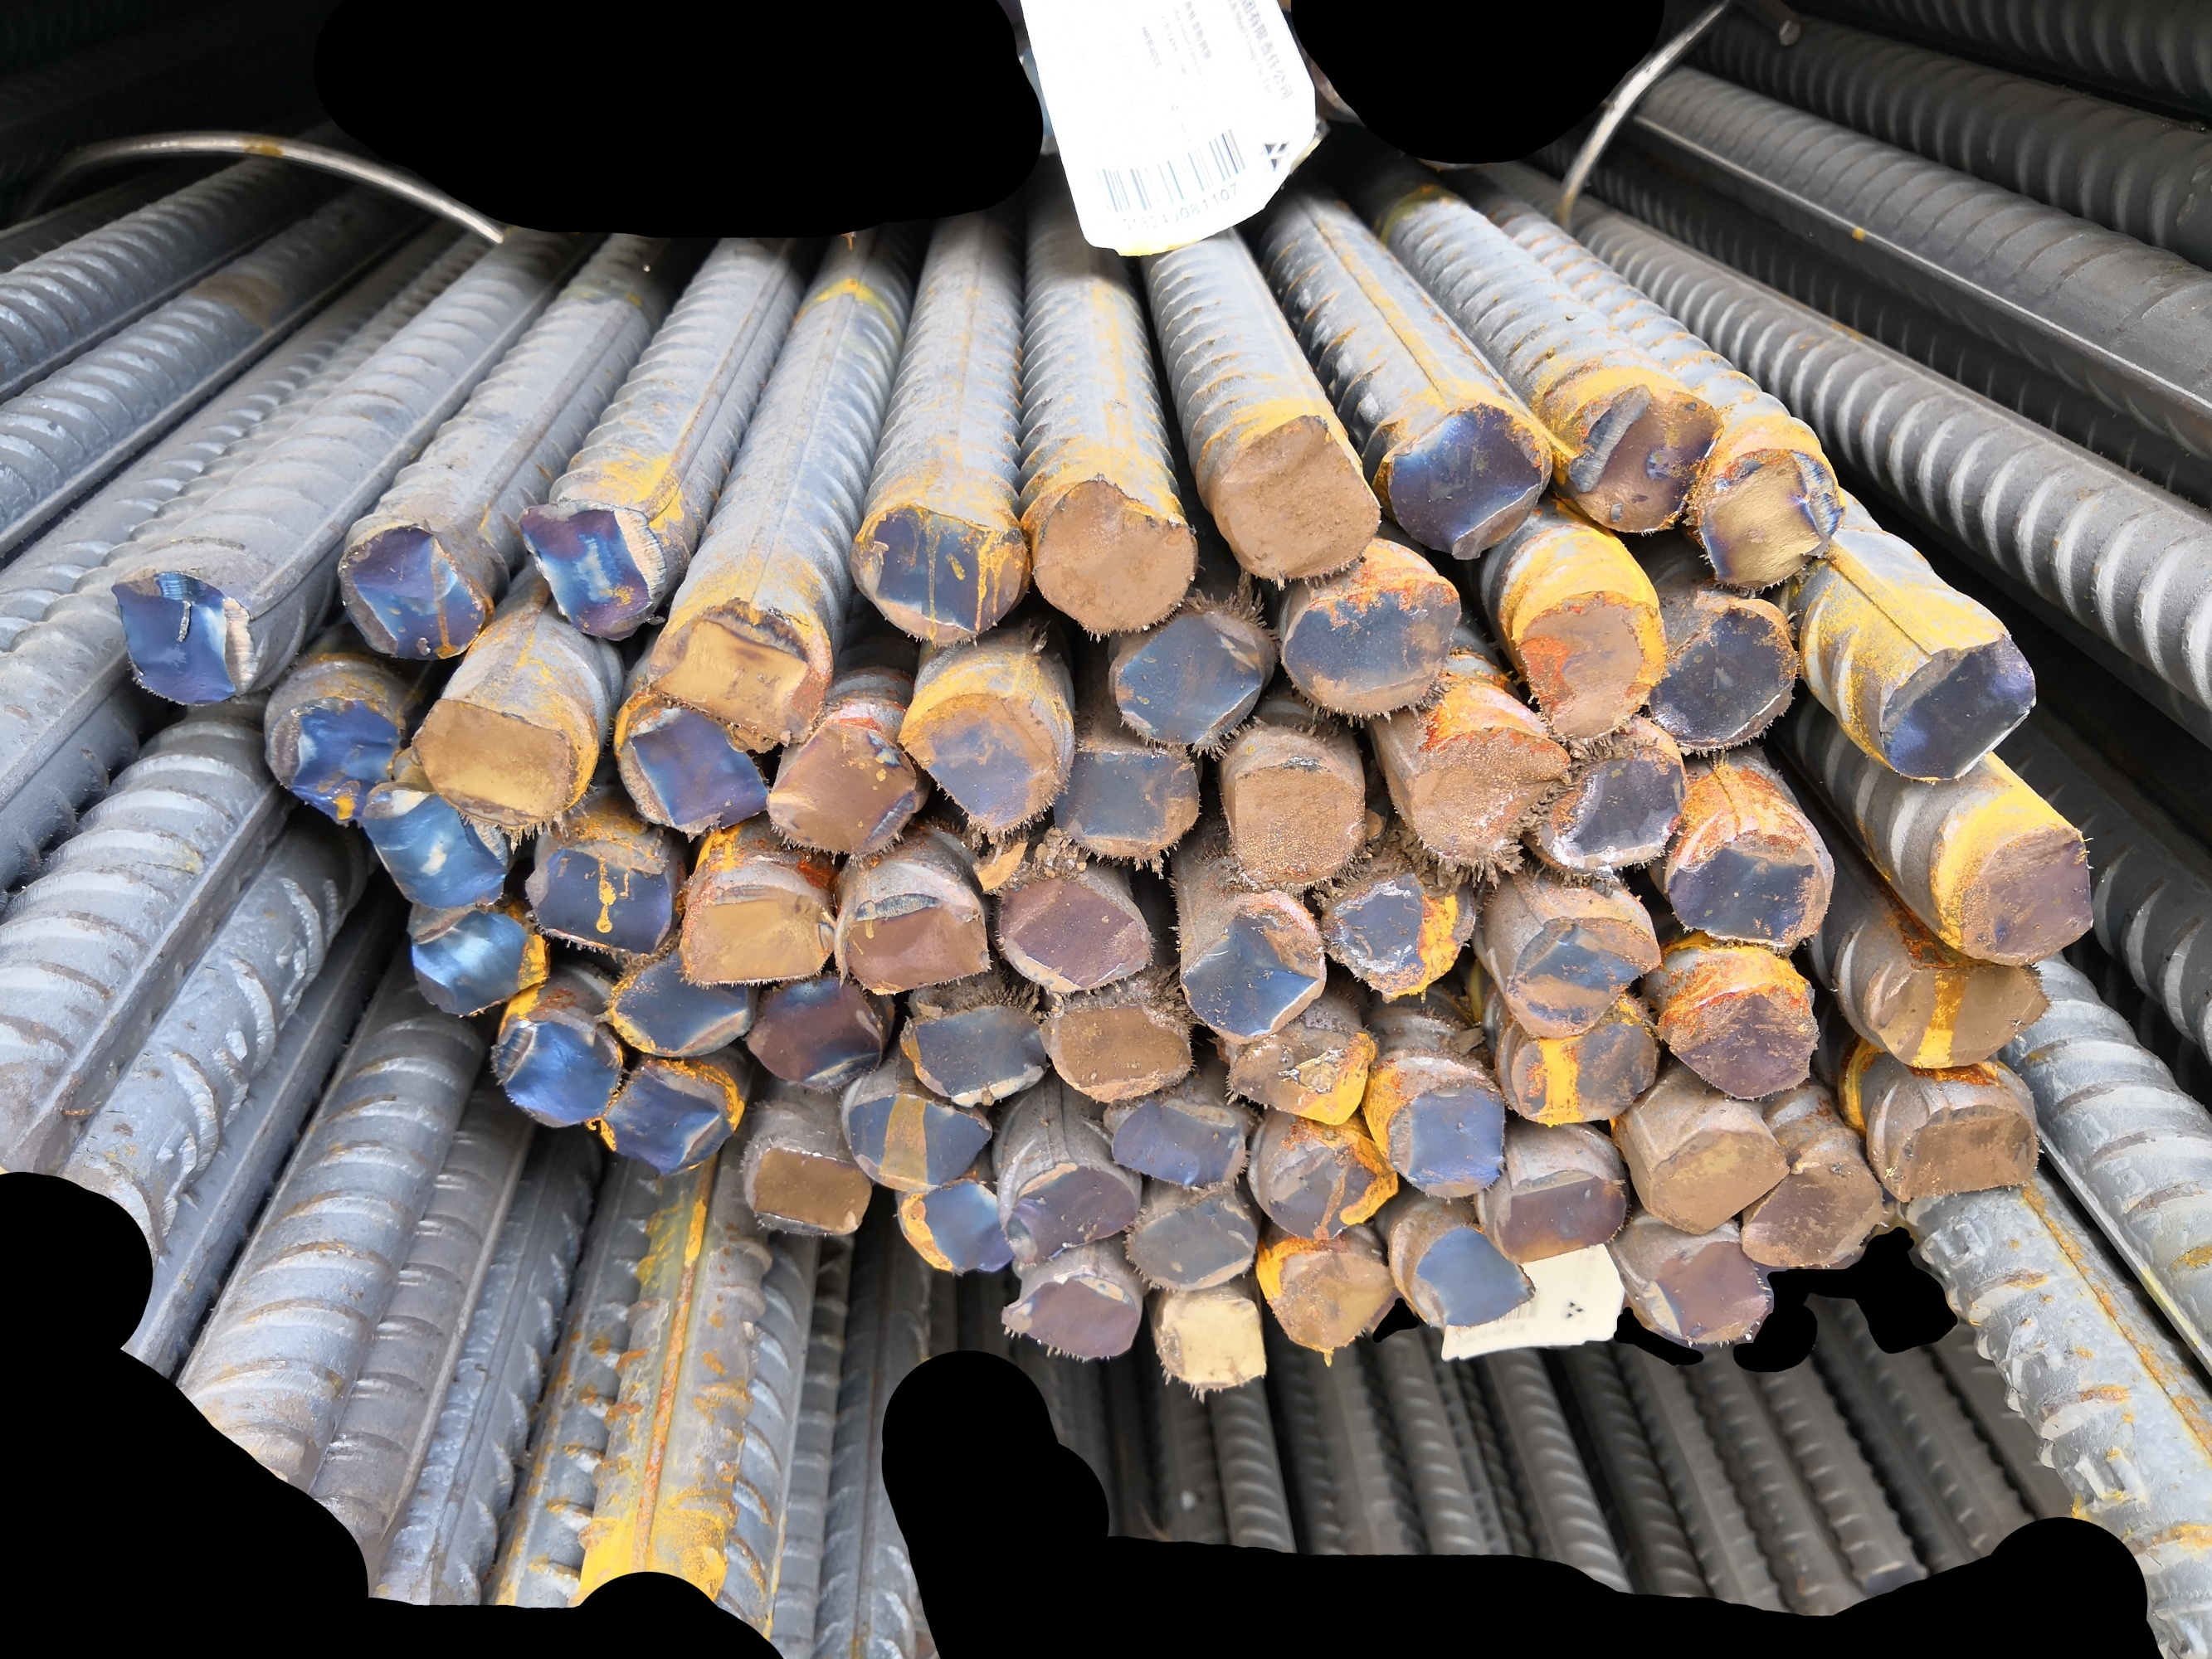rebar: (1206, 408, 1388, 587), (1271, 570, 1469, 728), (1025, 471, 1203, 643), (640, 592, 830, 751), (845, 493, 1032, 648), (1382, 394, 1551, 563), (1558, 376, 1731, 540), (1527, 716, 1696, 882), (1637, 596, 1806, 758), (892, 685, 1069, 840), (1313, 847, 1483, 1006), (1872, 631, 2045, 788), (1510, 584, 1675, 746), (1401, 721, 1578, 870), (1865, 938, 2057, 1073), (1687, 437, 1849, 598), (507, 491, 675, 645), (760, 714, 927, 864), (1105, 601, 1272, 751), (408, 692, 582, 835), (326, 518, 493, 666), (1647, 967, 1829, 1103), (1951, 816, 2106, 972), (1659, 823, 1835, 958), (1492, 995, 1670, 1129), (105, 563, 263, 711), (990, 864, 1161, 1000), (619, 695, 777, 840), (1501, 906, 1668, 1042), (1175, 901, 1330, 1044), (1217, 751, 1372, 892), (258, 692, 415, 831), (356, 782, 514, 917), (399, 887, 556, 1019), (1046, 742, 1210, 866), (1218, 1011, 1384, 1131), (739, 965, 891, 1096), (593, 1054, 750, 1180), (601, 936, 758, 1061), (523, 842, 680, 967), (1635, 1117, 1795, 1239), (1037, 988, 1198, 1107), (1879, 1094, 2046, 1208), (894, 997, 1058, 1112), (1377, 1068, 1515, 1204), (671, 878, 844, 986), (835, 887, 995, 1002), (837, 1086, 999, 1197), (485, 1011, 629, 1134), (1740, 1157, 1886, 1276), (1635, 1234, 1778, 1354), (995, 1155, 1143, 1270), (1259, 1131, 1403, 1244), (1267, 1241, 1403, 1361), (1105, 1091, 1252, 1199), (1407, 1218, 1543, 1333), (1117, 1187, 1262, 1295), (995, 1267, 1145, 1366), (1487, 1166, 1632, 1267), (743, 1136, 879, 1241), (1145, 1288, 1274, 1398), (892, 1173, 1021, 1277)
